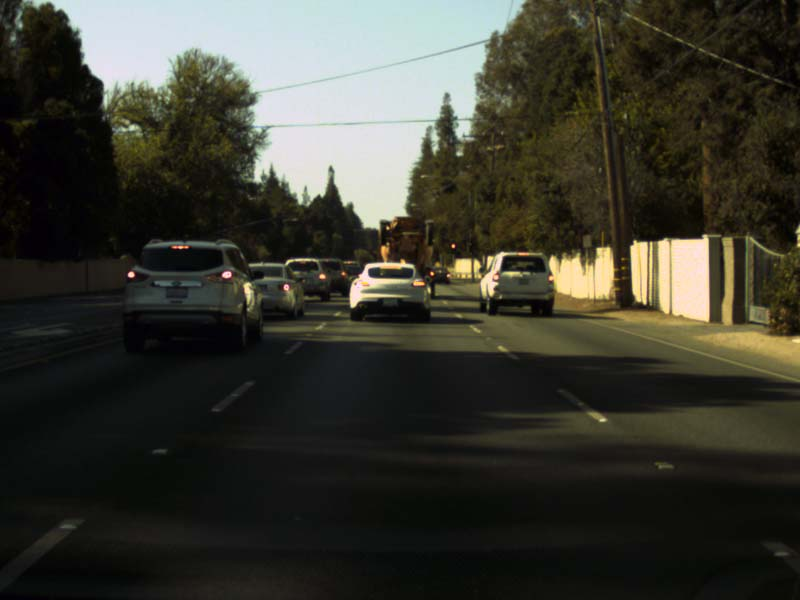Red: (449, 236, 454, 255)
